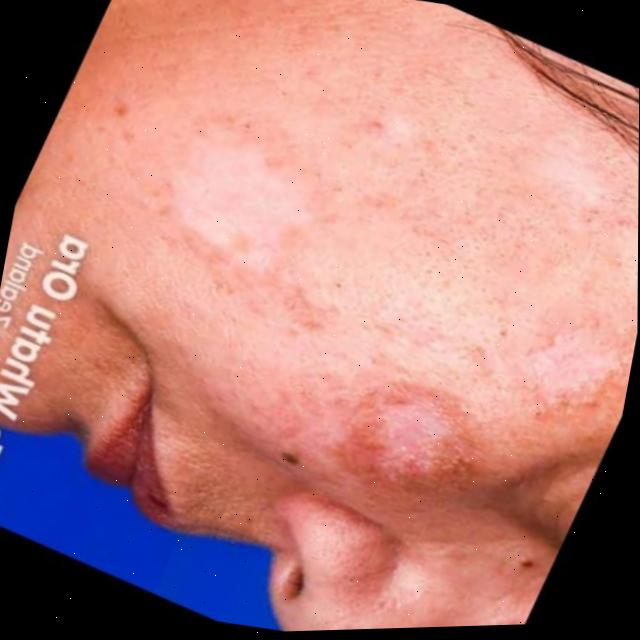Eczema: (100, 60, 639, 543)
